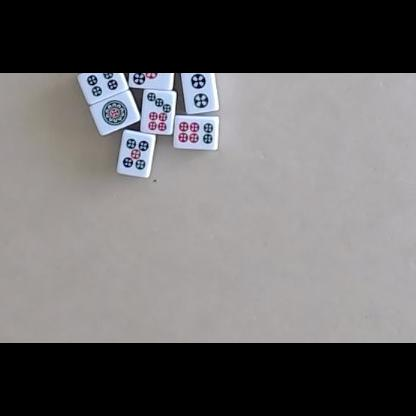1p: (101, 99, 129, 126)
2p: (190, 73, 209, 109)
3p: (132, 73, 170, 85)
4p: (86, 73, 118, 97)
5p: (123, 137, 150, 170)
6p: (178, 121, 214, 145)
7p: (146, 92, 172, 132)
